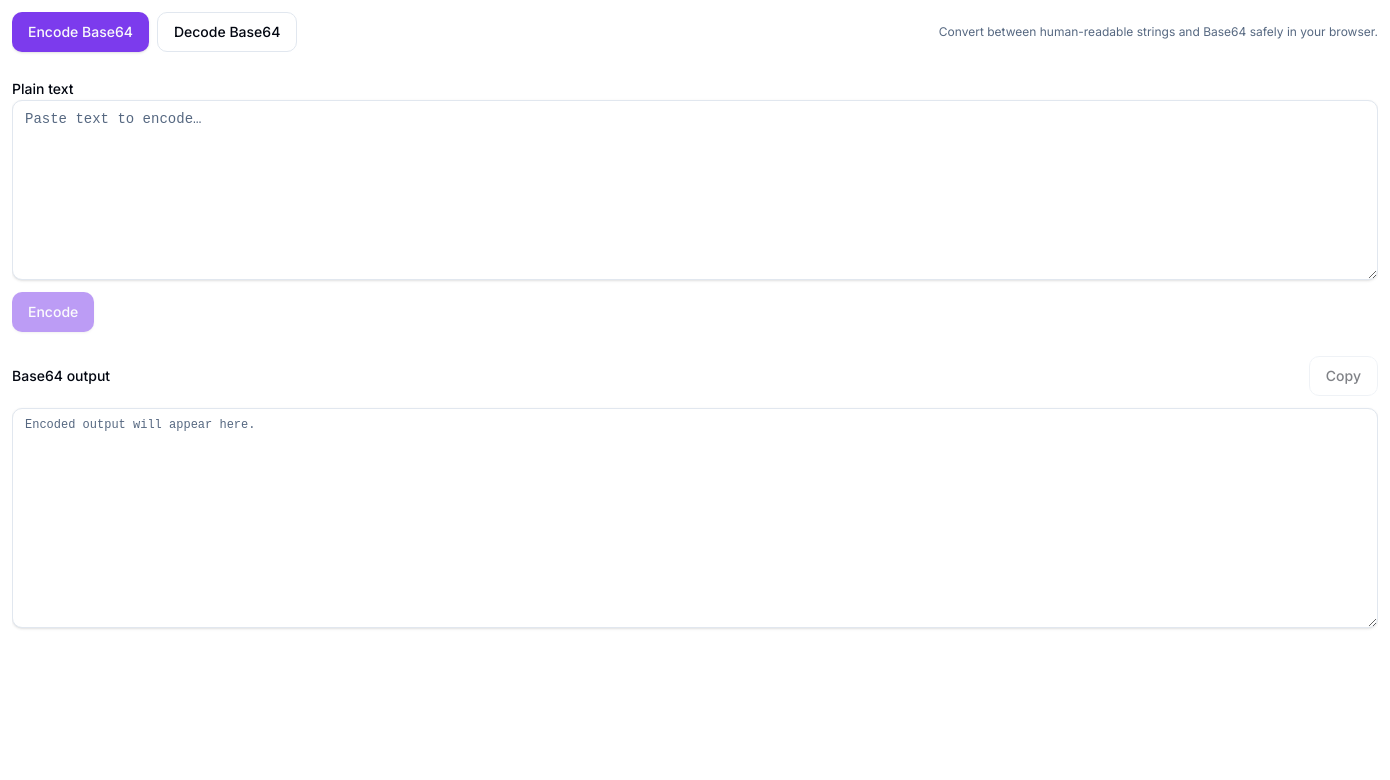
Test: Base64Utility › encodes plain text to base64
The width and height of the screenshot is (1390, 780).
In the text box labelled "Plain text": (695, 190) [12,100,1378,280], type "hello"
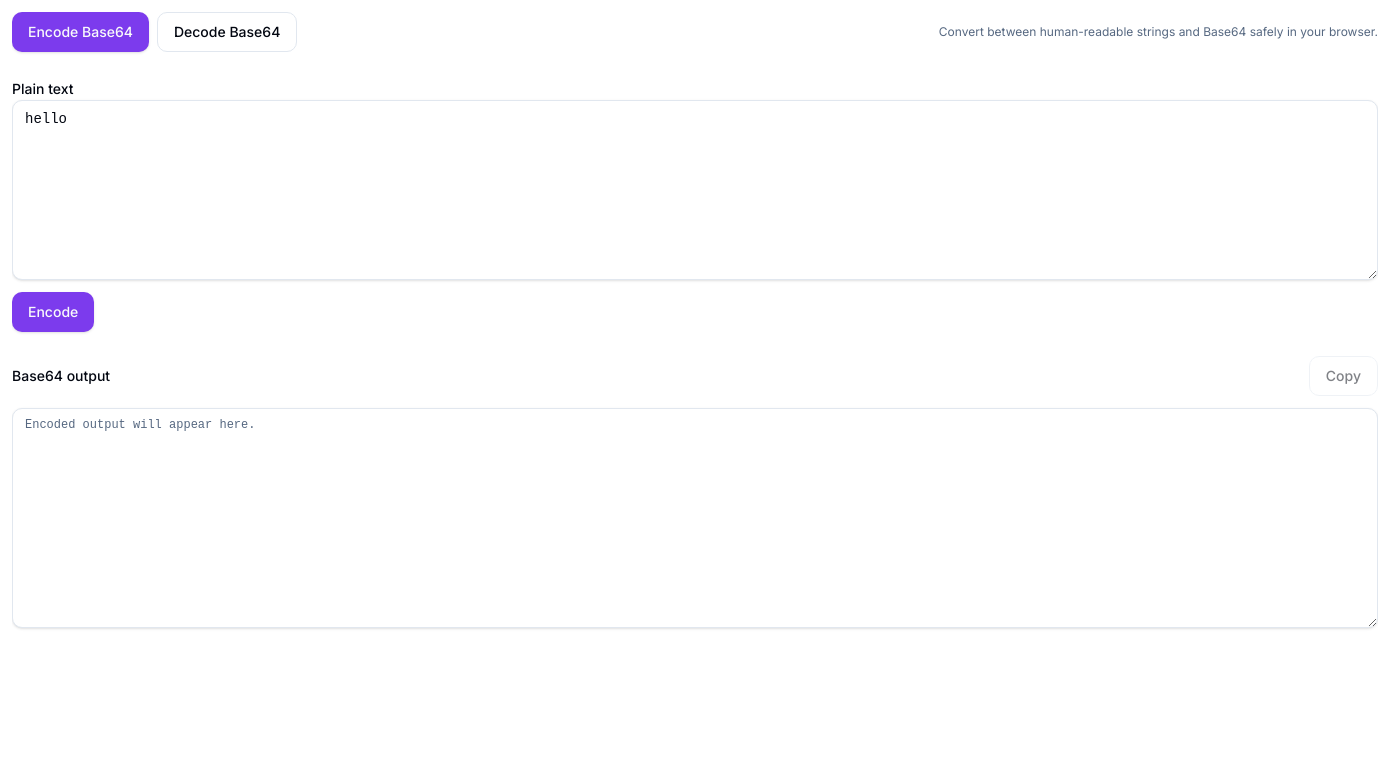
Click the button "Encode": (53, 312) [12,292,94,332]
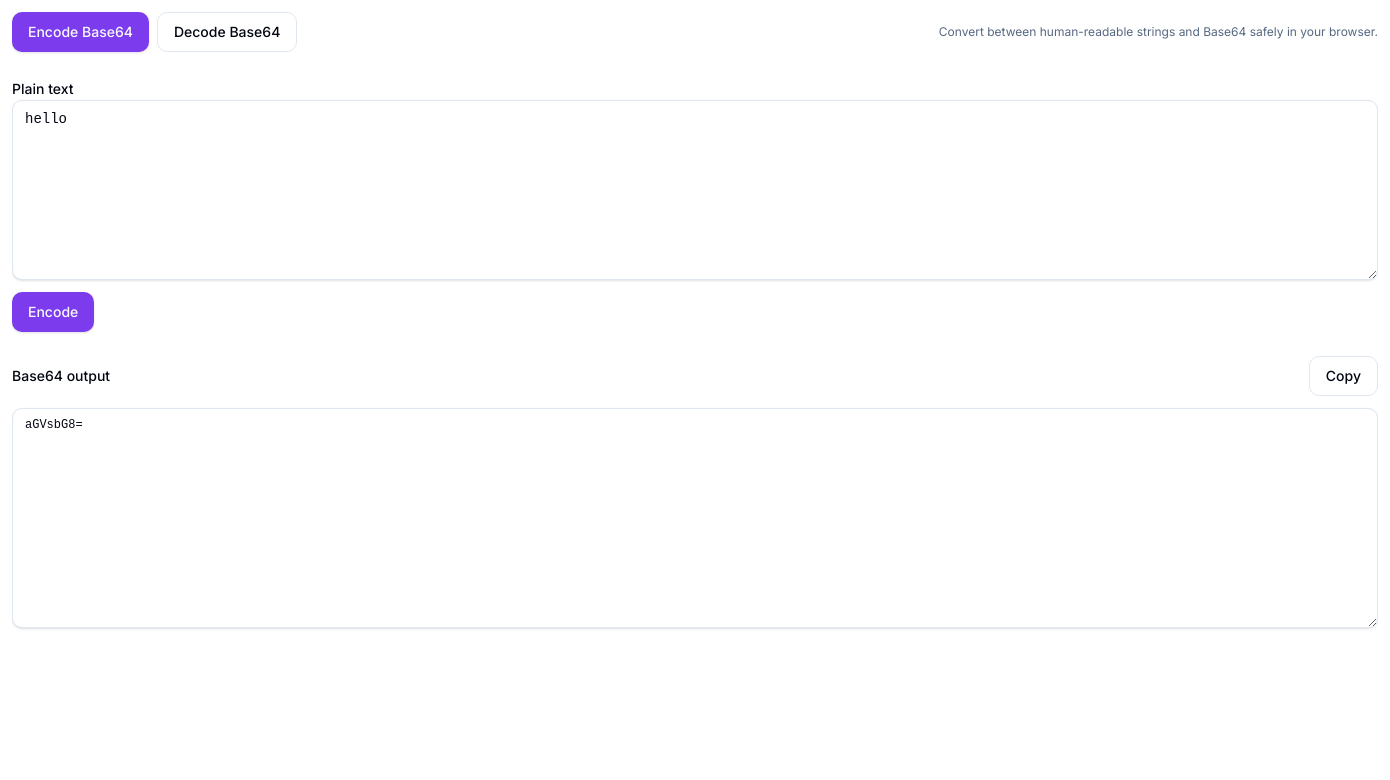
expect the text box labelled "Base64 output" holds "aGVsbG8=": met, box [12,408,1378,628]
